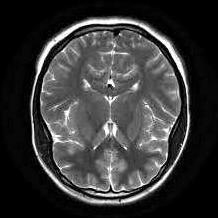Normal_Brain: (24, 1, 204, 218)
